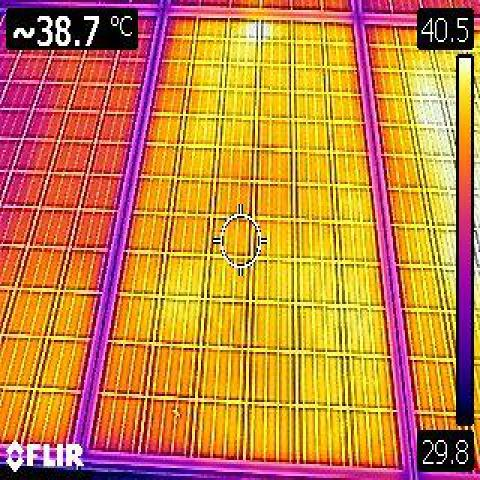fault: (248, 23, 271, 38)
